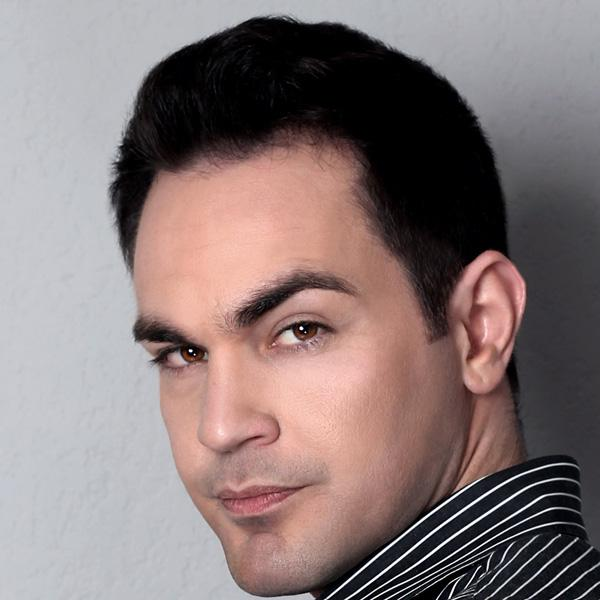Eyes: (259, 307, 342, 360), (155, 335, 214, 380)
